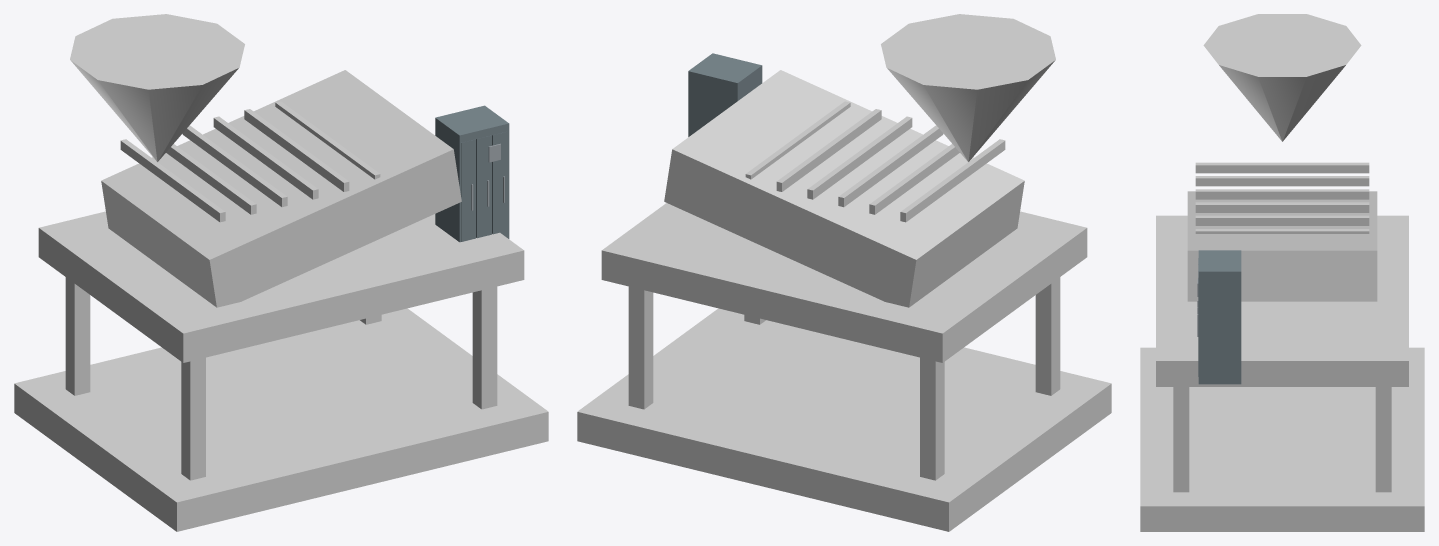
3 views of the same model, side by side, from view 1: azimuth 30°, elevation 25°; view 2: azimuth 150°, elevation 25°; view 3: azimuth 270°, elevation 25° (orthographic). The views are drawn at different scales.
Parts seen in each view (by area): view 1: base_frame_1, screen_deck_8, worktable_7, hopper_9, leg_6, leg_4, leg_3, screen_slot_10, screen_slot_13, screen_slot_14, g0.008, screen_slot_12 (+6 smaller); view 2: base_frame_1, screen_deck_8, worktable_7, hopper_9, leg_5, leg_3, leg_4, g0.009, screen_slot_10, screen_slot_13, screen_slot_14, screen_slot_12 (+3 smaller); view 3: base_frame_1, worktable_7, screen_deck_8, hopper_9, g0.011, screen_slot_10, screen_slot_12, screen_slot_13, screen_slot_11, screen_slot_14, leg_5, leg_6 (+4 smaller).
Part boxes in pixels (x1,y1,x2,y2): base_frame_1: (14, 308, 548, 531); screen_deck_8: (101, 70, 461, 307); worktable_7: (38, 211, 524, 362); hopper_9: (70, 14, 244, 161); leg_6: (472, 286, 497, 409); leg_4: (181, 357, 205, 480); leg_3: (65, 277, 90, 395); screen_slot_10: (120, 139, 225, 222); screen_slot_13: (213, 116, 318, 199); screen_slot_14: (244, 109, 349, 191); g0.008: (436, 107, 509, 142); screen_slot_12: (182, 125, 287, 207); base_frame_1: (577, 308, 1111, 531); screen_deck_8: (664, 70, 1024, 307); worktable_7: (601, 203, 1087, 362); hopper_9: (881, 14, 1055, 161); leg_5: (628, 286, 653, 409); leg_3: (920, 357, 944, 480); leg_4: (1035, 277, 1060, 395); g0.009: (688, 70, 738, 135); screen_slot_10: (900, 139, 1005, 222); screen_slot_13: (807, 116, 912, 199); screen_slot_14: (776, 109, 881, 191); screen_slot_12: (838, 125, 943, 207); base_frame_1: (1140, 347, 1424, 531); worktable_7: (1156, 215, 1408, 386); screen_deck_8: (1187, 191, 1377, 301); hopper_9: (1203, 14, 1361, 141); g0.011: (1198, 270, 1240, 377); screen_slot_10: (1195, 162, 1369, 173); screen_slot_12: (1195, 189, 1369, 199); screen_slot_13: (1195, 202, 1369, 212); screen_slot_11: (1195, 176, 1369, 186); screen_slot_14: (1195, 215, 1369, 225); leg_5: (1375, 387, 1391, 492); leg_6: (1173, 387, 1189, 492).
Bounding box in the file's own units: 2.18 × 2.2 × 1.6.
